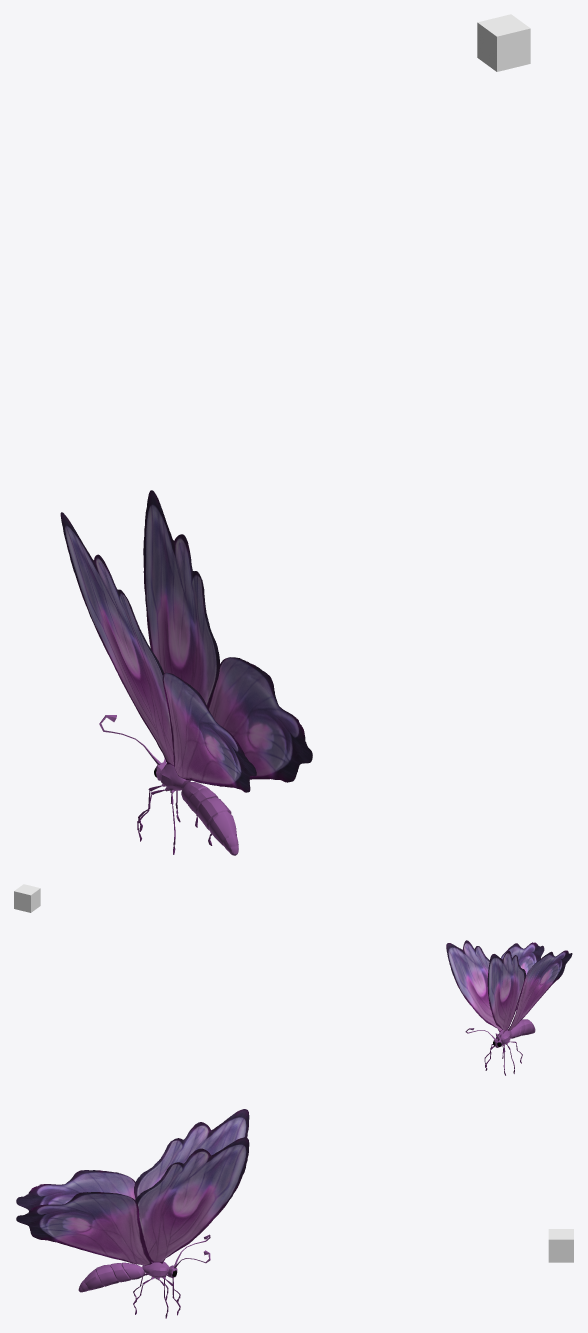
The model's file is butterfly1.obj.
3 renders of one model, top to bottom at view 1: azimuth 30°, elevation 25°; view 2: azimuth 150°, elevation 25°; view 3: azimuth 270°, elevation 25°, orthographic. The views are drawn at different scales.
Parts seen in each view (by area): view 1: butterfly_wingfront.l_butterfly_wingfront, butterfly_wingfront.r_butterfly_wingfront, butterfly_wingback.l_butterfly_wingback, butterfly_wingback.r_butterfly_wingback, butterfly_body, 立方体; view 2: butterfly_wingfront.l_butterfly_wingfront, butterfly_wingfront.r_butterfly_wingfront, butterfly_wingback.r_butterfly_wingback, butterfly_body, butterfly_wingback.l_butterfly_wingback, 立方体; view 3: butterfly_wingfront.l_butterfly_wingfront, butterfly_wingback.l_butterfly_wingback, butterfly_wingfront.r_butterfly_wingfront, butterfly_wingback.r_butterfly_wingback, butterfly_body, 立方体, butterfly_wingbac_butterfly_wingbac.002.
Part boxes in pixels (x1,y1,x2,y2): butterfly_wingfront.l_butterfly_wingfront: [143, 490, 219, 688]; butterfly_wingfront.r_butterfly_wingfront: [60, 512, 173, 766]; butterfly_wingback.l_butterfly_wingback: [208, 657, 312, 782]; butterfly_wingback.r_butterfly_wingback: [162, 672, 256, 792]; butterfly_body: [99, 715, 238, 855]; 立方体: [477, 14, 530, 71]; butterfly_wingfront.l_butterfly_wingfront: [446, 940, 502, 1032]; butterfly_wingfront.r_butterfly_wingfront: [487, 950, 525, 1033]; butterfly_wingback.r_butterfly_wingback: [508, 950, 572, 1030]; butterfly_body: [465, 1019, 535, 1075]; butterfly_wingback.l_butterfly_wingback: [501, 942, 544, 1010]; 立方体: [14, 884, 40, 912]; butterfly_wingfront.l_butterfly_wingfront: [135, 1137, 249, 1263]; butterfly_wingback.l_butterfly_wingback: [16, 1192, 152, 1265]; butterfly_wingfront.r_butterfly_wingfront: [135, 1109, 249, 1186]; butterfly_wingback.r_butterfly_wingback: [16, 1170, 135, 1210]; butterfly_body: [78, 1234, 210, 1318]; 立方体: [548, 1229, 573, 1262]; butterfly_wingbac_butterfly_wingbac.002: [23, 1205, 63, 1223].
Size of the model in its own units: 0.8051 by 0.4694 by 0.8573.
Materials: 5 (1 with a texture image).
